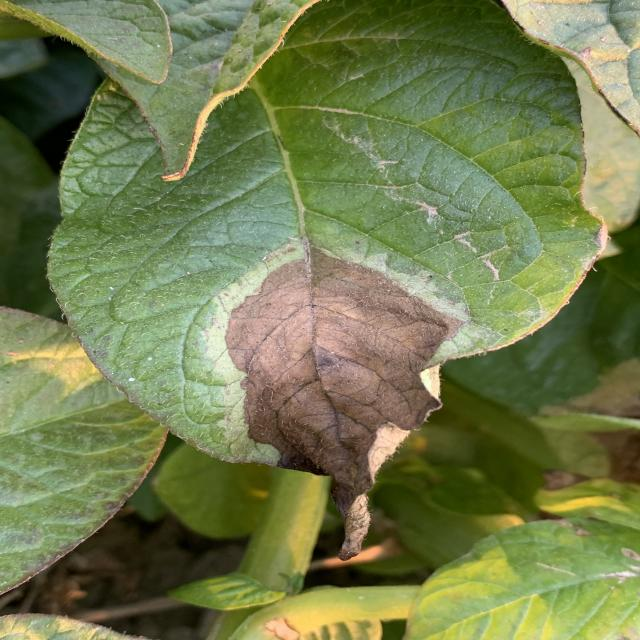lateblight: (225, 249, 460, 508)
